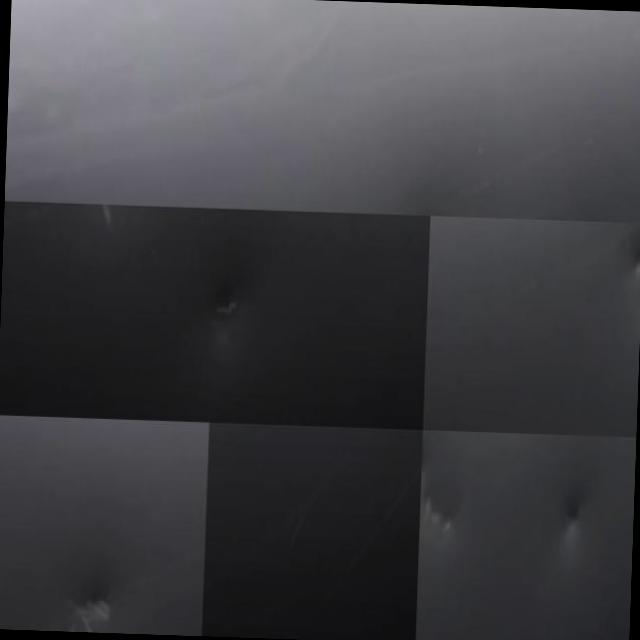dent: (203, 272, 246, 345), (534, 486, 586, 544), (420, 487, 464, 537)
